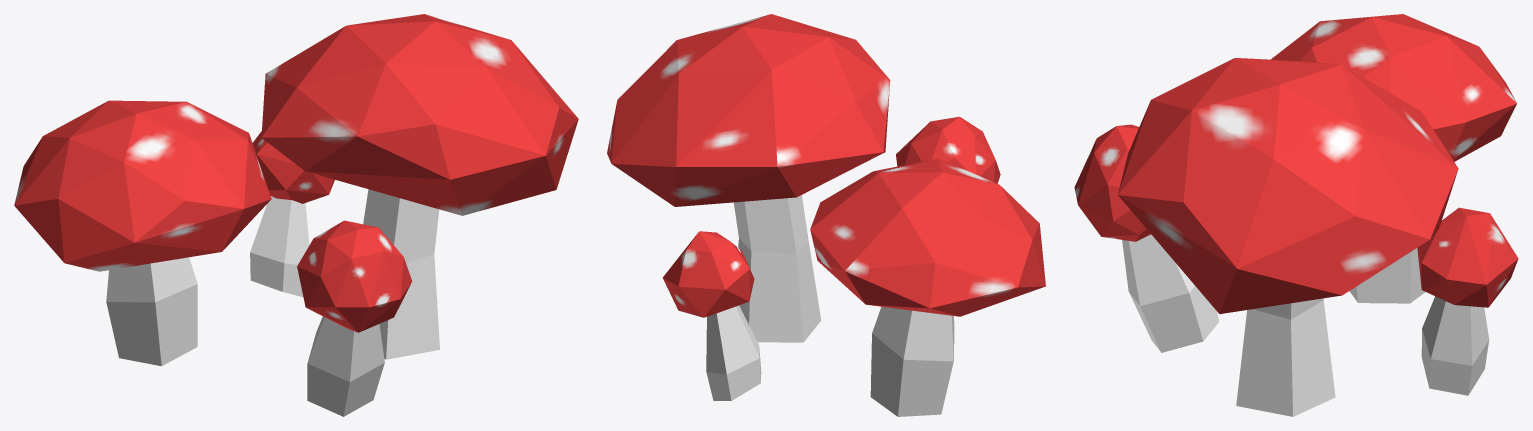
File: Mushroom_e_06.fbx
3 renders of one model, left to right at view 1: azimuth 30°, elevation 25°; view 2: azimuth 150°, elevation 25°; view 3: azimuth 270°, elevation 25°, orthographic. The views are drawn at different scales.
Visible parts, largest first — view 1: Mushroom_e_06; view 2: Mushroom_e_06; view 3: Mushroom_e_06.
Boxes of the visible parts, box(x1,y1,x2,y2) form: Mushroom_e_06: box(14, 14, 578, 416); Mushroom_e_06: box(607, 14, 1045, 416); Mushroom_e_06: box(1074, 14, 1518, 416).
Size of the model in its own units: 50.53 by 32.17 by 37.96.
